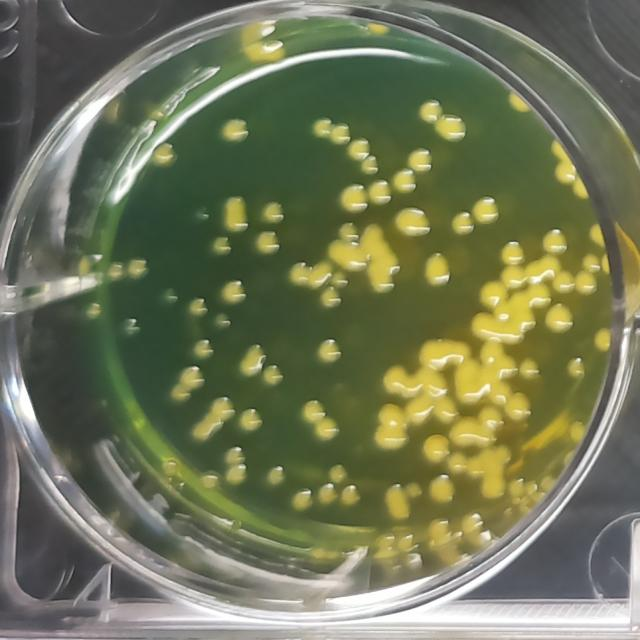other: (325, 219, 399, 298), (191, 395, 237, 445), (415, 334, 474, 371), (370, 398, 410, 451), (298, 400, 339, 441), (392, 204, 433, 241), (376, 481, 414, 520), (548, 138, 578, 187), (434, 112, 474, 144), (420, 250, 452, 290), (220, 194, 250, 236), (474, 276, 509, 312), (288, 259, 327, 291), (544, 300, 577, 337), (216, 115, 250, 149), (338, 179, 369, 216), (470, 192, 503, 226), (216, 274, 249, 308), (311, 335, 345, 367), (236, 405, 267, 438), (539, 225, 569, 258), (237, 342, 264, 377), (148, 139, 178, 170), (446, 208, 476, 238), (287, 487, 317, 516), (406, 146, 435, 175), (497, 236, 525, 266), (368, 177, 394, 209), (252, 230, 281, 258), (389, 169, 418, 196), (176, 362, 205, 389), (572, 268, 598, 298), (416, 97, 443, 125), (258, 197, 284, 226), (592, 323, 615, 355), (260, 361, 286, 388), (126, 252, 151, 280), (552, 269, 577, 297), (329, 120, 354, 147), (347, 136, 372, 162), (167, 380, 192, 406), (264, 462, 290, 487), (309, 115, 333, 140), (104, 260, 127, 286), (190, 338, 215, 361), (356, 156, 383, 177), (325, 462, 350, 483)
